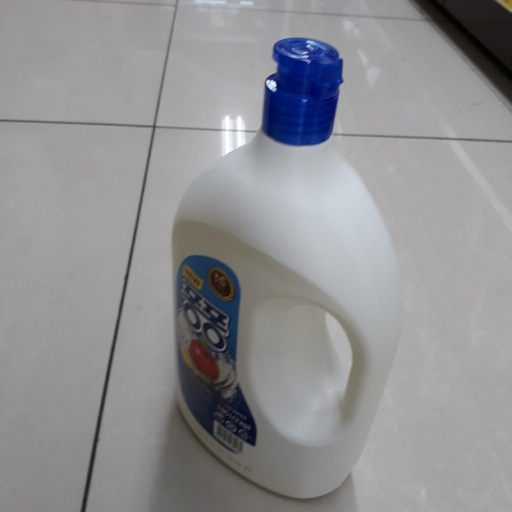Plastic_1: (168, 37, 404, 500)
